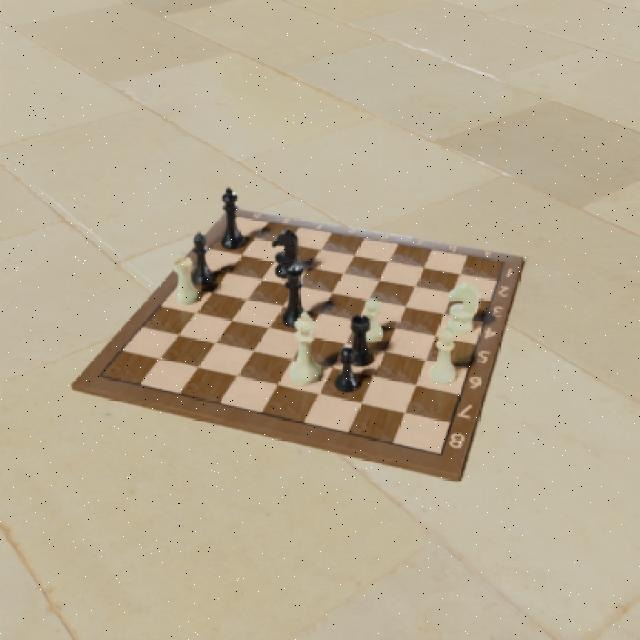black-bishop: (184, 230, 216, 289)
black-king: (214, 186, 247, 250)
black-knight: (269, 228, 303, 280)
black-queen: (278, 262, 310, 328)
black-rook: (343, 315, 376, 369)
white-bishop: (424, 322, 459, 385)
white-king: (285, 311, 323, 388)
white-knight: (444, 280, 480, 337)
white-rook: (171, 256, 203, 306)
